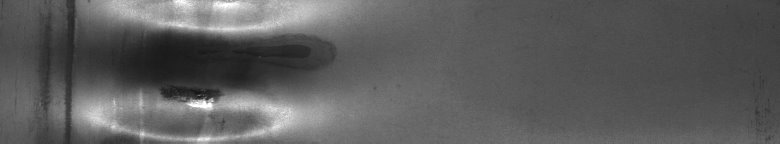ke: (44, 4, 306, 136)
